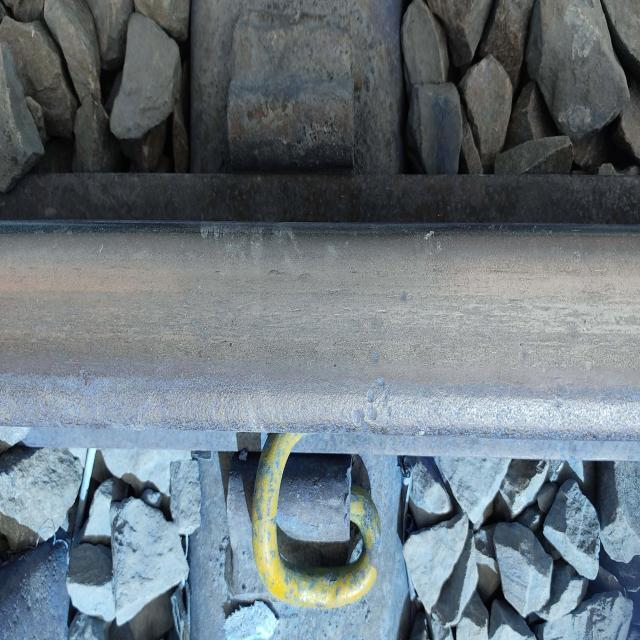Good Fasteners: (226, 433, 410, 640)
Missing Fastener: (191, 0, 404, 174)
